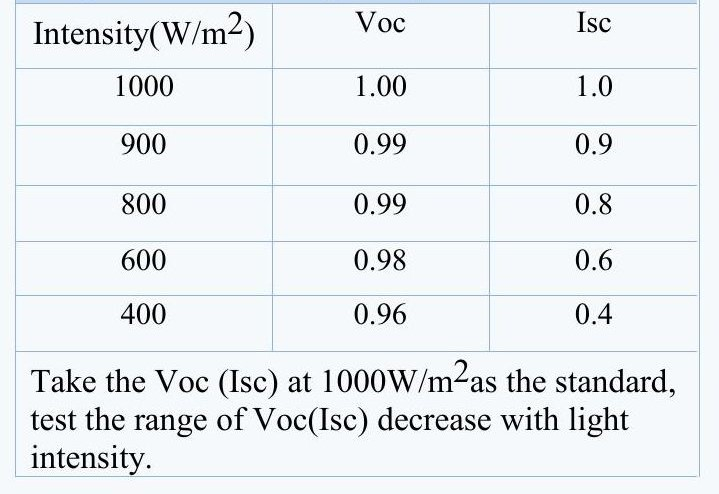table: (8, 1, 712, 359)
table column: (24, 5, 267, 355), (285, 5, 485, 356), (495, 3, 690, 354)
table column header: (20, 8, 693, 61)
table row: (18, 6, 695, 65), (20, 69, 697, 122), (19, 129, 698, 181), (20, 299, 698, 348), (18, 244, 698, 292), (19, 190, 698, 237)
